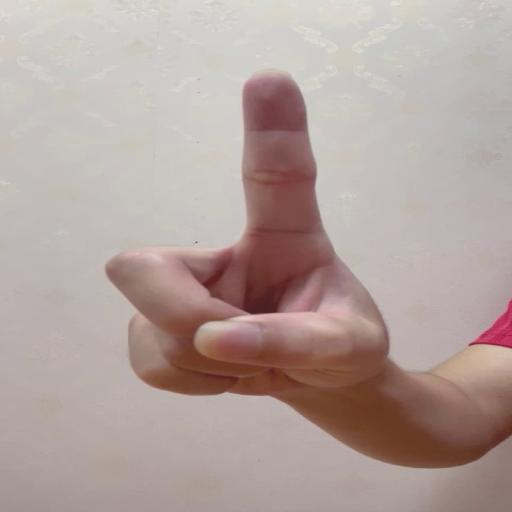point: (102, 67, 340, 398)
